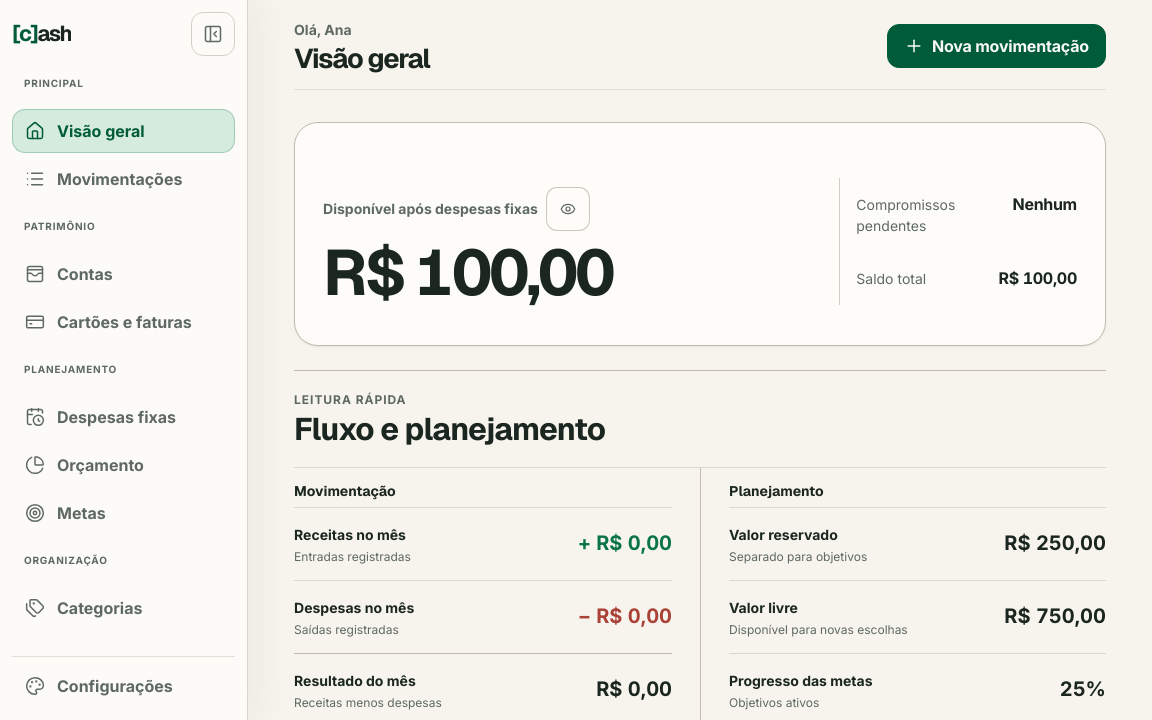
Test: mostra progresso de orçamento, alertas e metas
Check: the text "Valor reservado" is shown, box [729, 526, 838, 543]
Click the button "Orçamento" at (124, 465), box [12, 443, 235, 487]
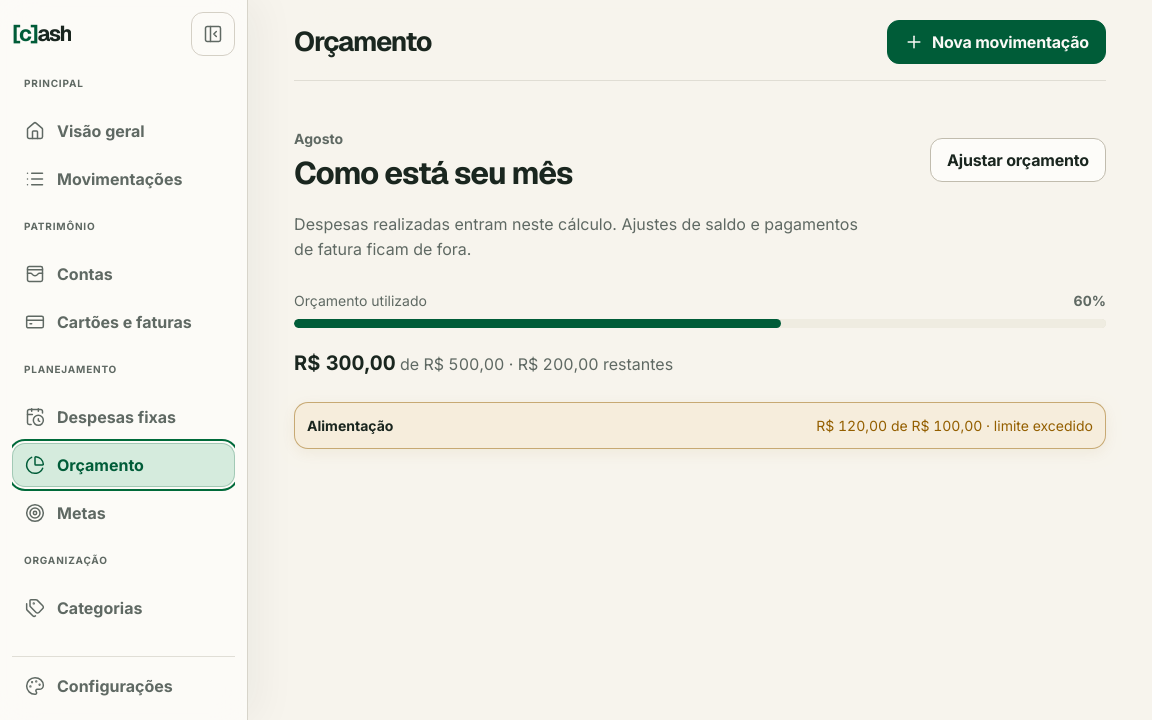
Check: the text "R$ 120,00 de R$ 100,00 · limite excedido" is shown, box [816, 415, 1093, 436]
Click the button "Metas" at (124, 513), box [12, 491, 235, 535]
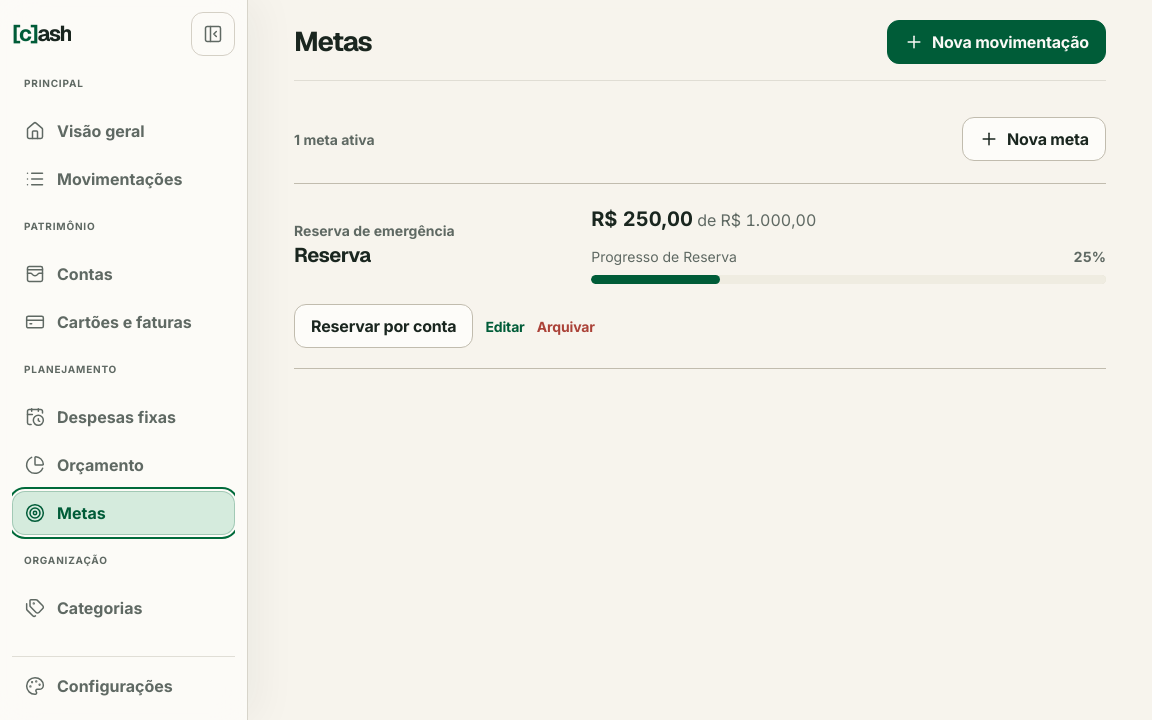
Check: the heading "Reserva" is shown, box [294, 242, 371, 268]
